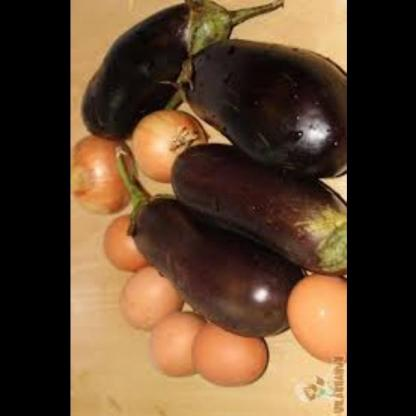eggplant: (71, 0, 282, 130), (111, 191, 293, 339), (163, 35, 345, 166), (167, 143, 346, 276)
onion: (129, 107, 205, 187), (69, 131, 136, 215)
